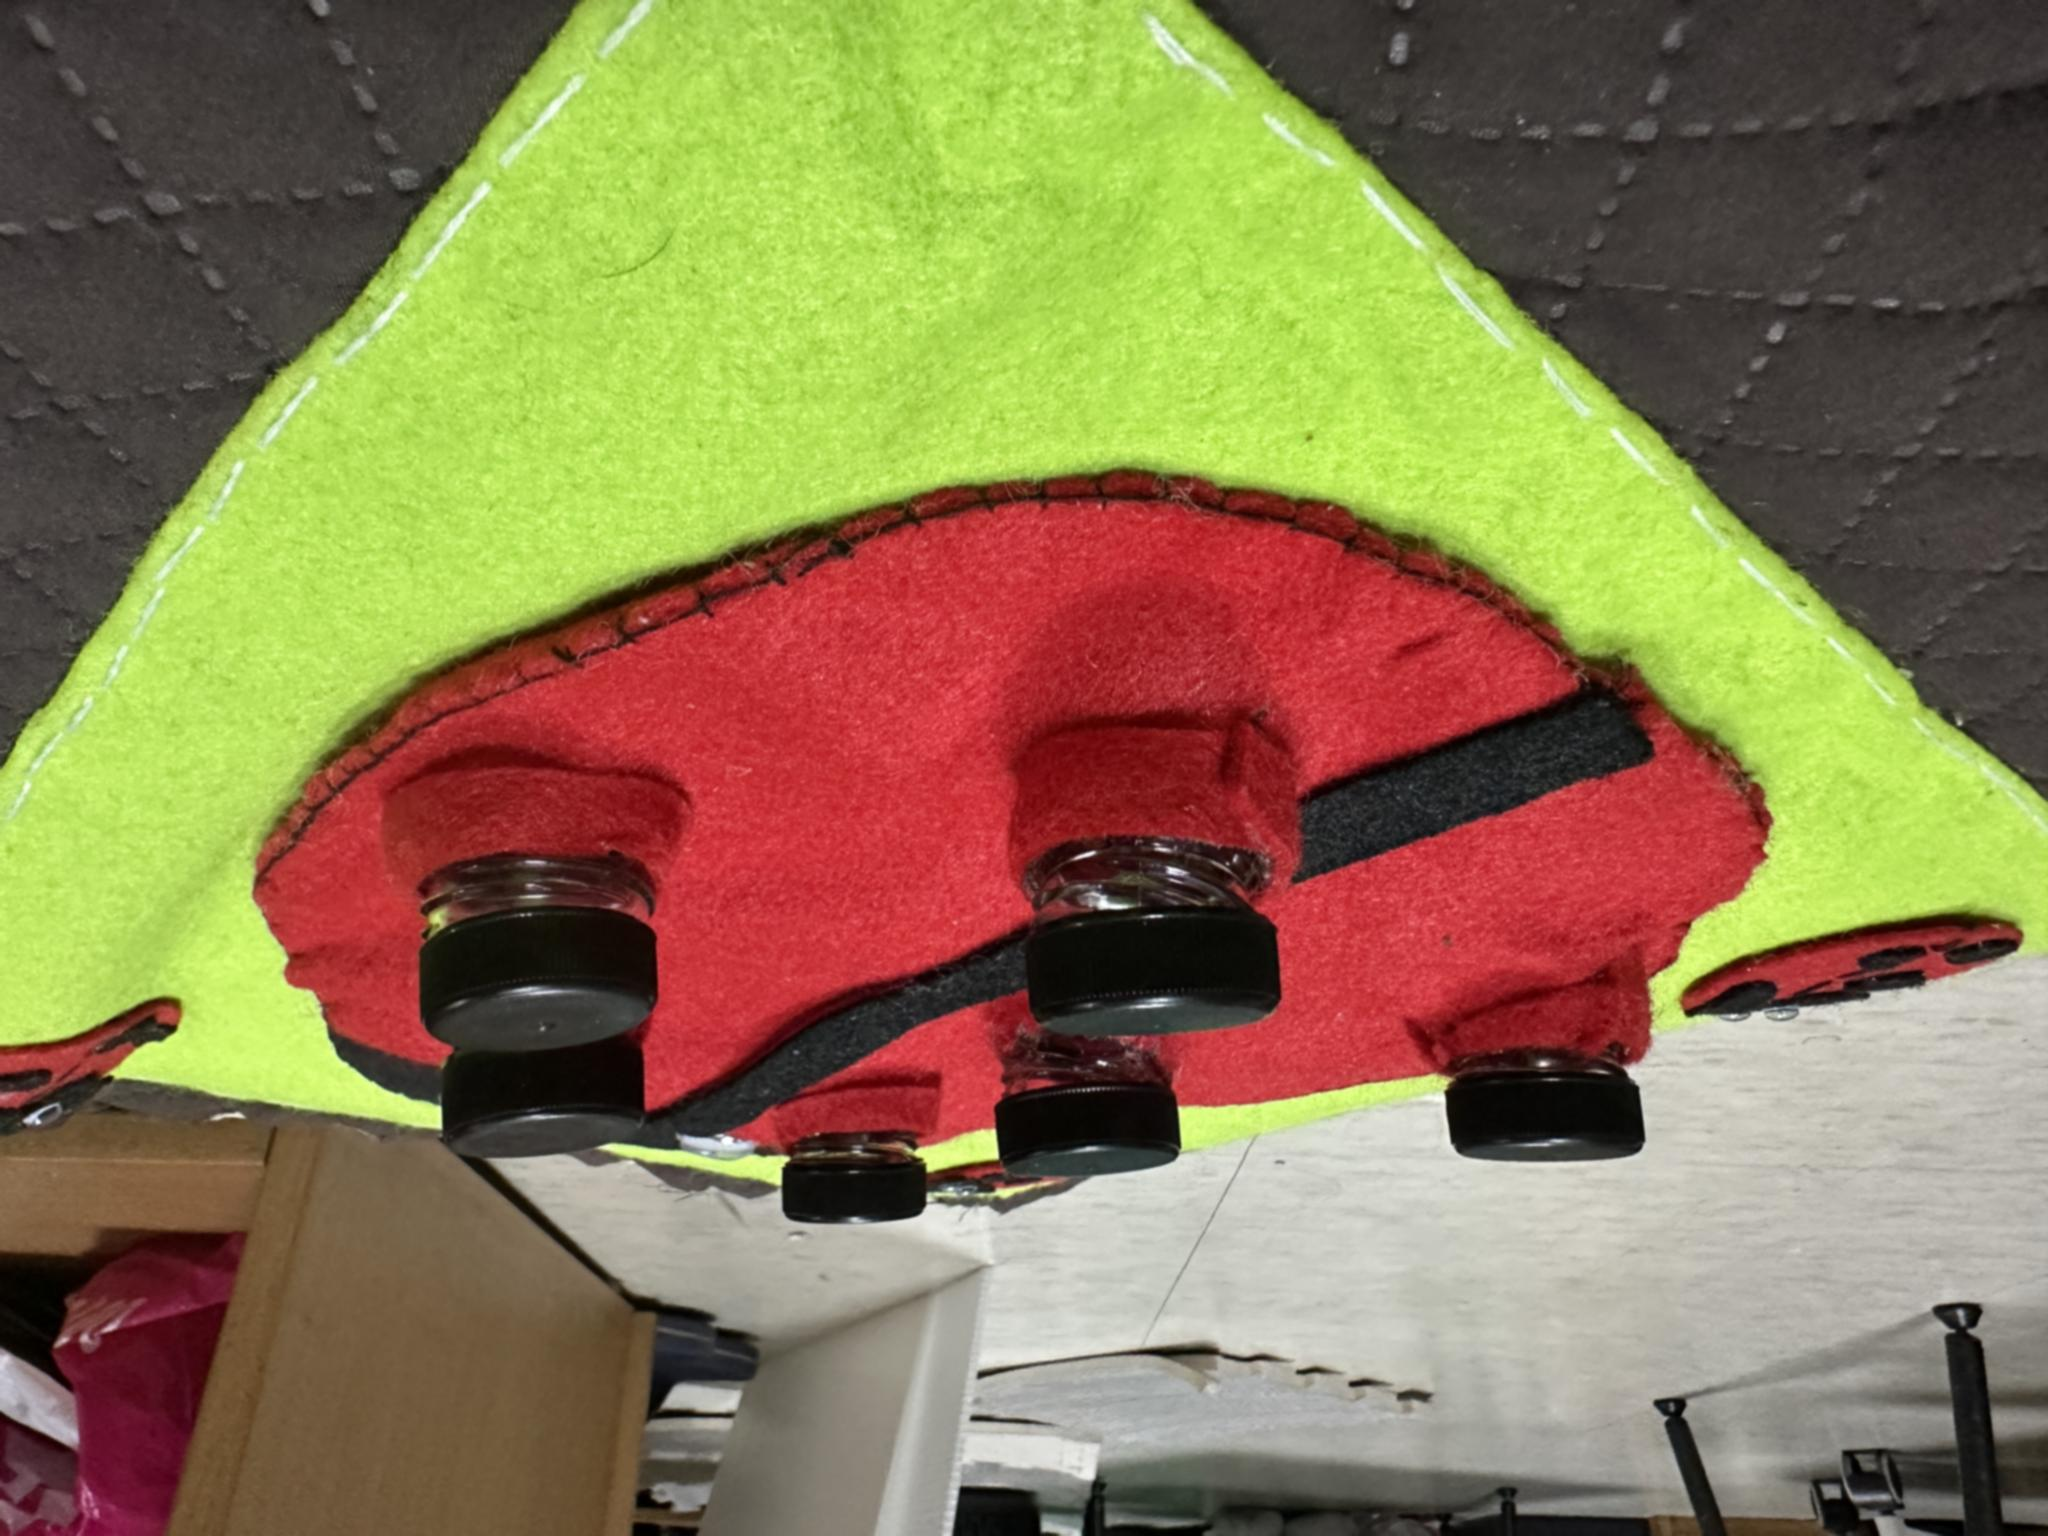cap_ng: (982, 700, 1319, 1039), (393, 744, 685, 1037), (1422, 986, 1672, 1200), (989, 1021, 1201, 1210), (769, 1058, 955, 1263)
cap_ok: (434, 1025, 674, 1179)
